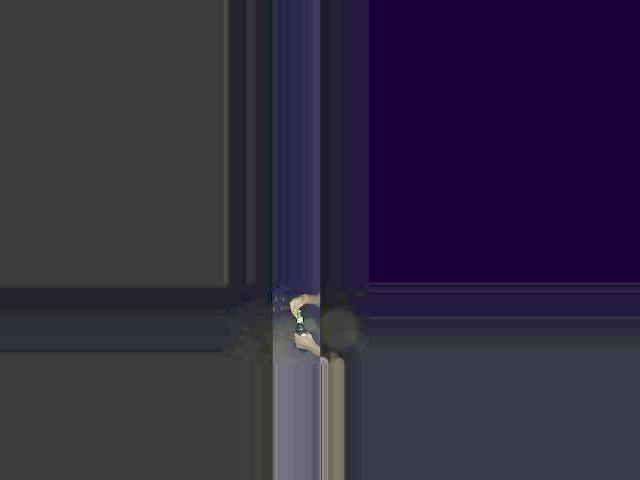beer: (295, 310, 309, 352)
